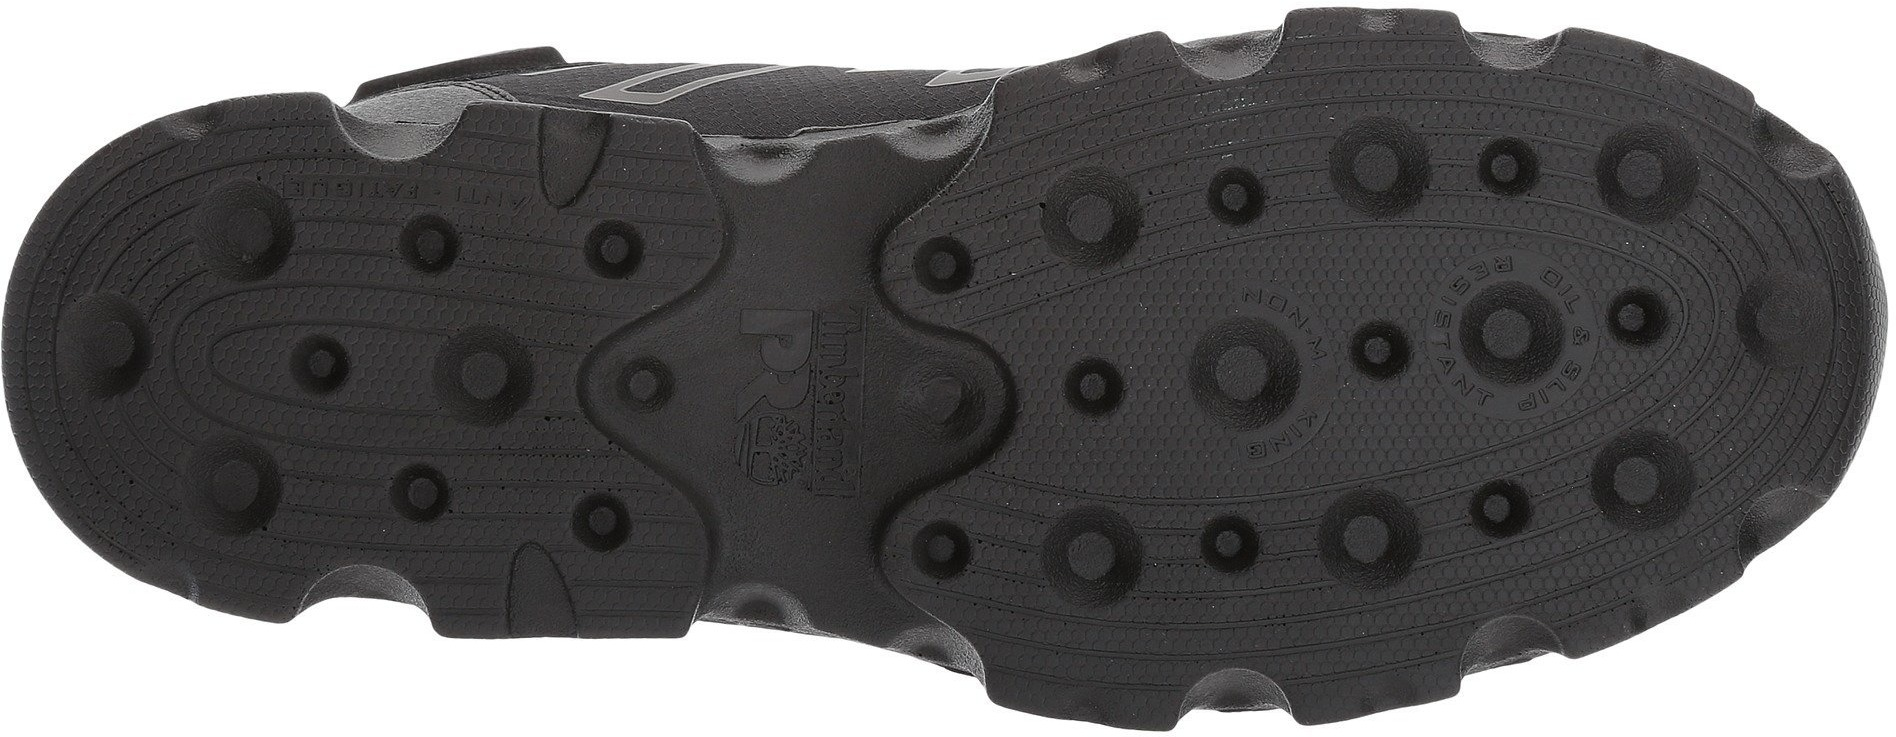circle: (416, 312, 551, 437), (1312, 118, 1451, 240), (1021, 504, 1156, 616), (193, 159, 304, 280), (1196, 323, 1300, 435), (881, 341, 992, 446), (1736, 267, 1832, 376), (187, 435, 276, 547), (1044, 168, 1141, 268), (1592, 121, 1684, 224), (62, 295, 149, 401), (1592, 443, 1690, 520), (1476, 115, 1545, 216), (561, 476, 643, 555), (582, 207, 657, 290), (401, 466, 462, 530), (1334, 507, 1399, 562), (1615, 288, 1663, 342), (1071, 352, 1111, 416), (921, 246, 967, 288)
exclude: (1173, 666, 1295, 735), (1177, 11, 1290, 82)
line: (1048, 85, 1305, 162), (291, 410, 395, 564), (304, 211, 406, 348)
text: (724, 290, 869, 511)
